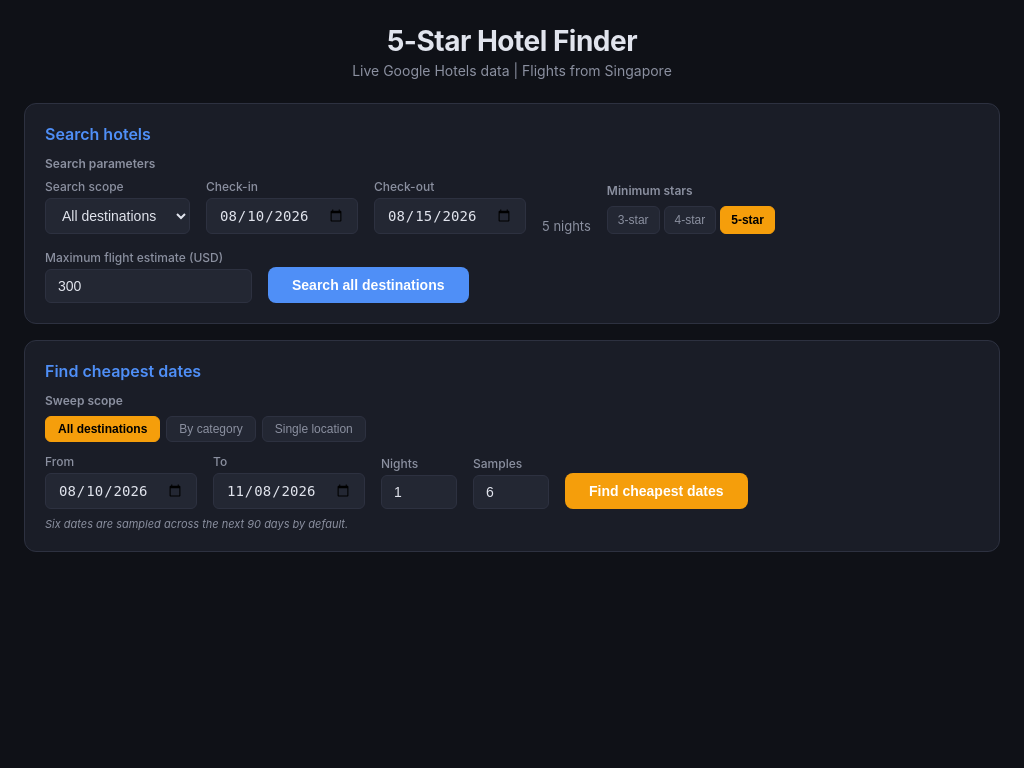
latest search and comparison ownership › clears the previous result as soon as a superseding search starts and keeps it clear on failure
expect the button "Find cheapest dates" is enabled: met, box left=565, top=473, right=748, bottom=509
Type "2026-09-10" into the date field labelled "Check-in" at (282, 216), box left=206, top=198, right=358, bottom=234
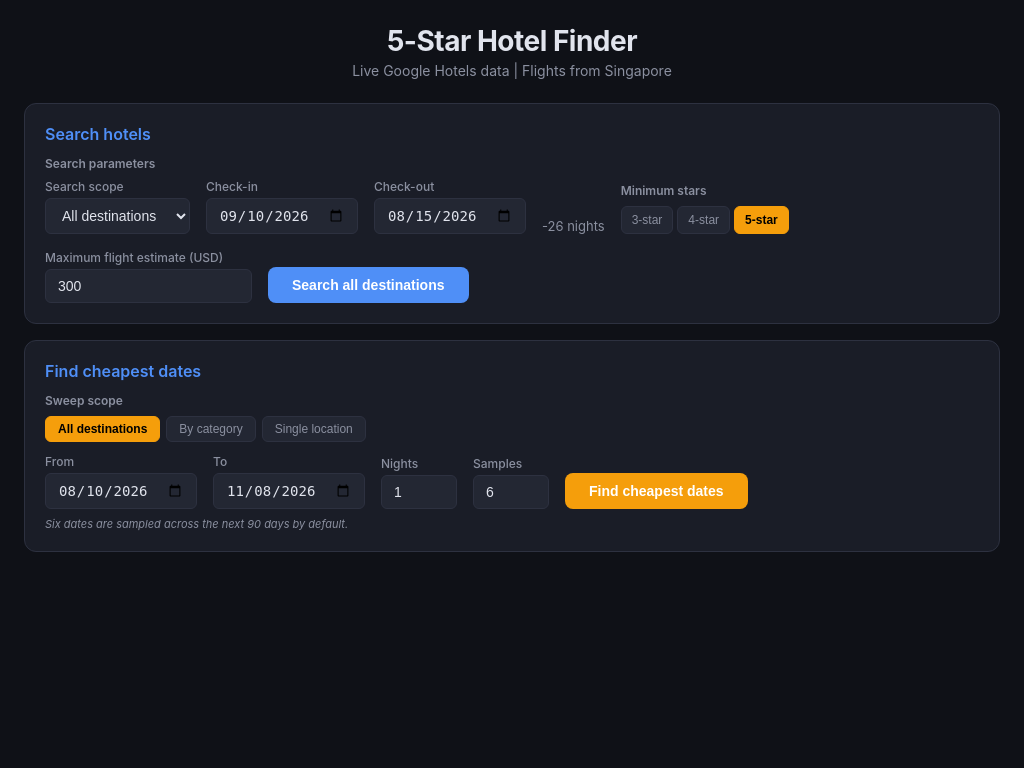
Type "2026-09-15" into the date field labelled "Check-out" at (450, 216), box left=374, top=198, right=526, bottom=234
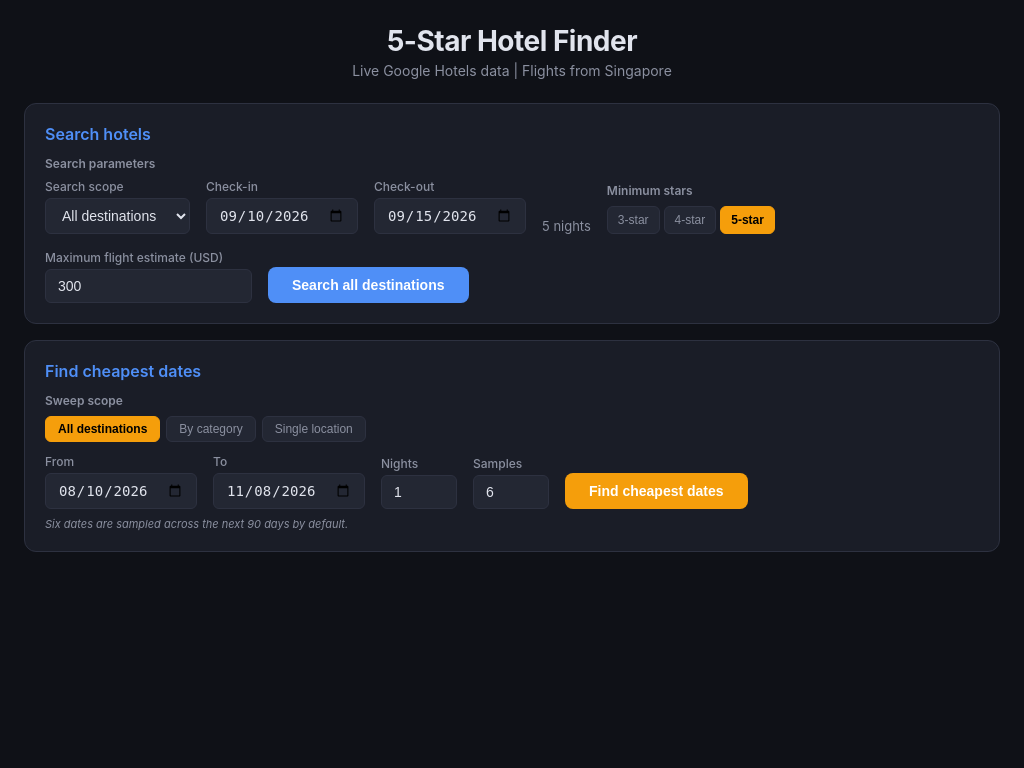
Click the button "Search all destinations" at (368, 285), box left=268, top=267, right=468, bottom=303
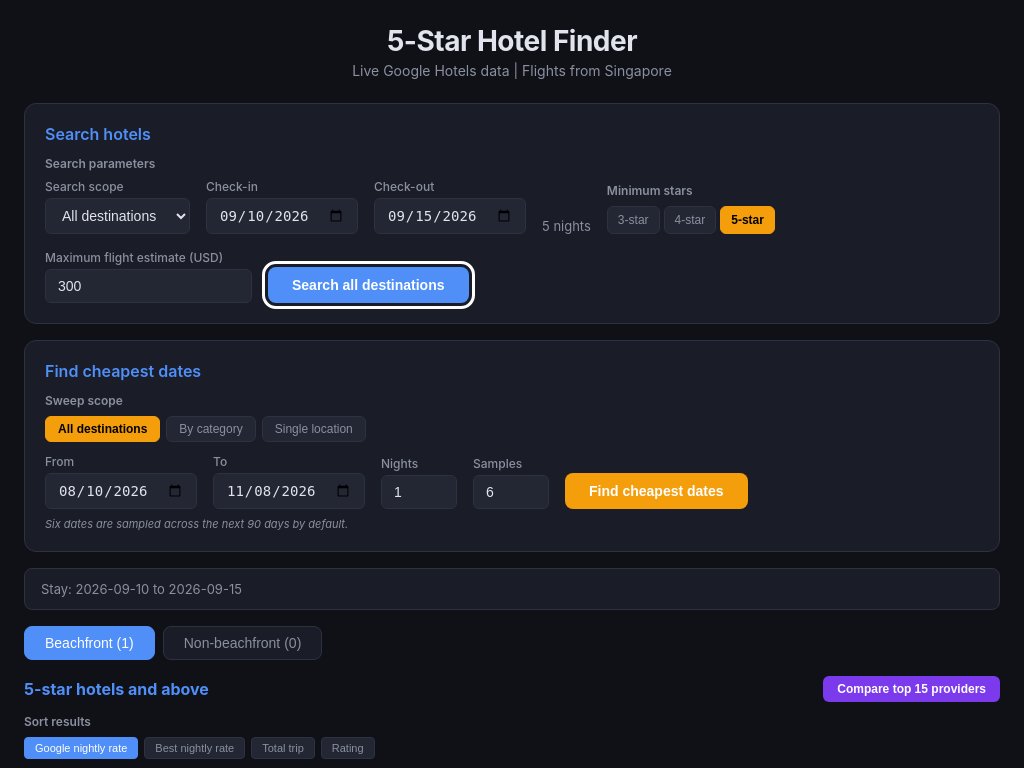
Type "2026-10-20" into the date field labelled "Check-in" at (282, 216), box left=206, top=198, right=358, bottom=234
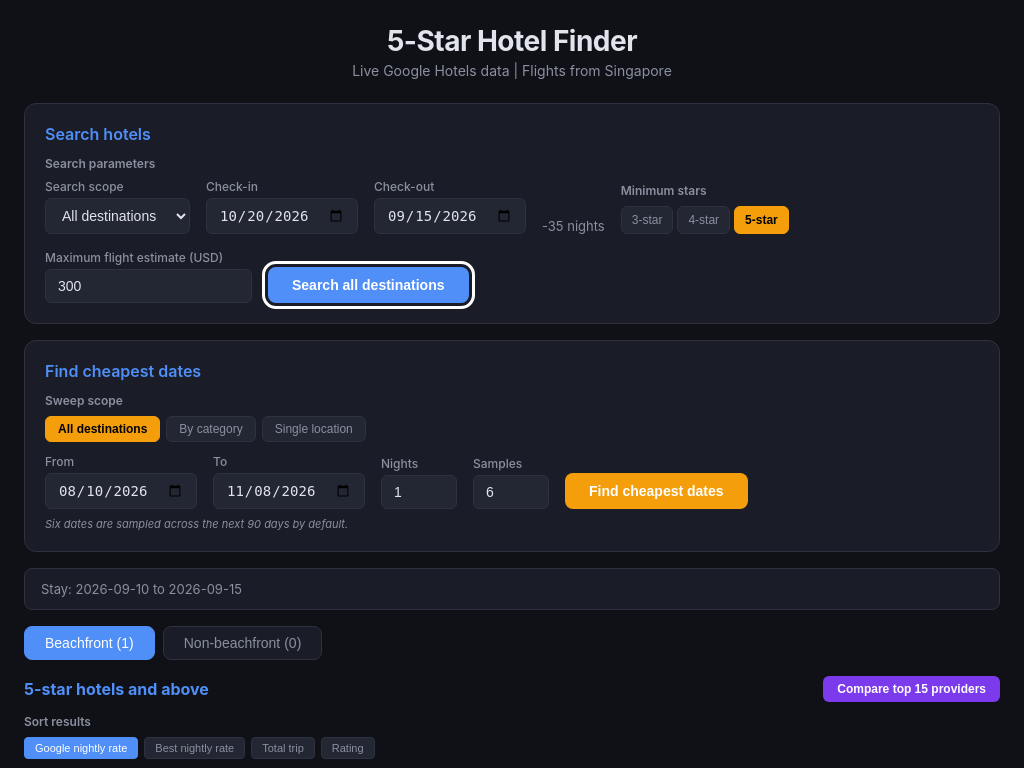
Type "2026-10-25" into the date field labelled "Check-out" at (450, 216), box left=374, top=198, right=526, bottom=234
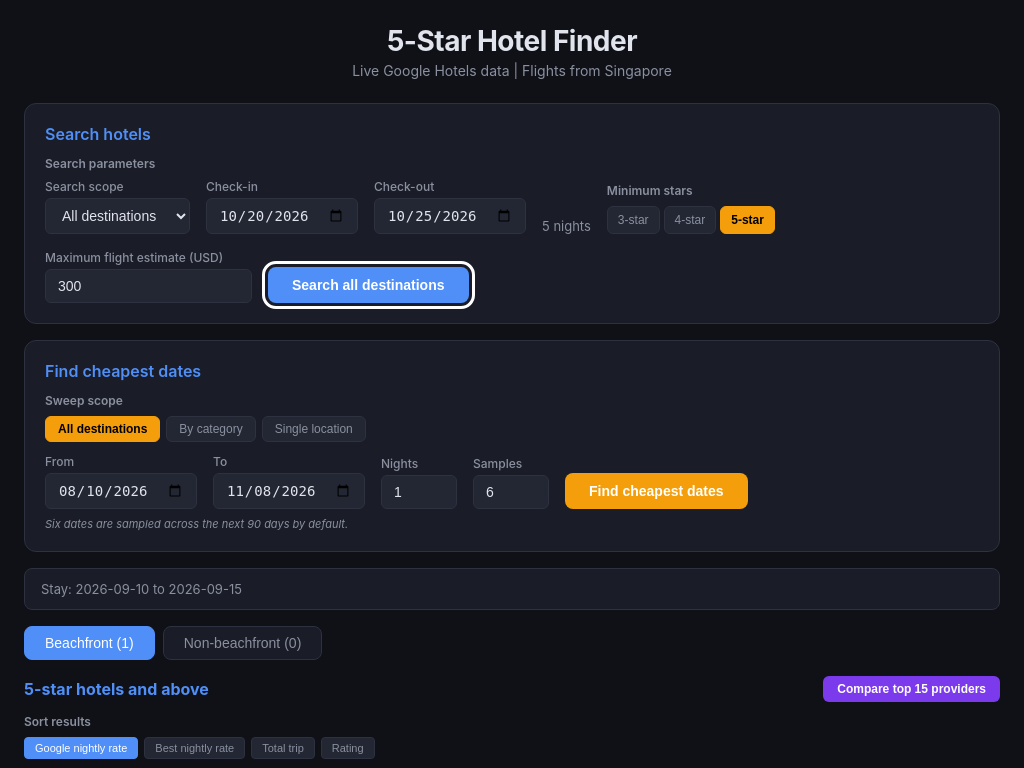
Click the button "Search all destinations" at (368, 285), box left=268, top=267, right=468, bottom=303
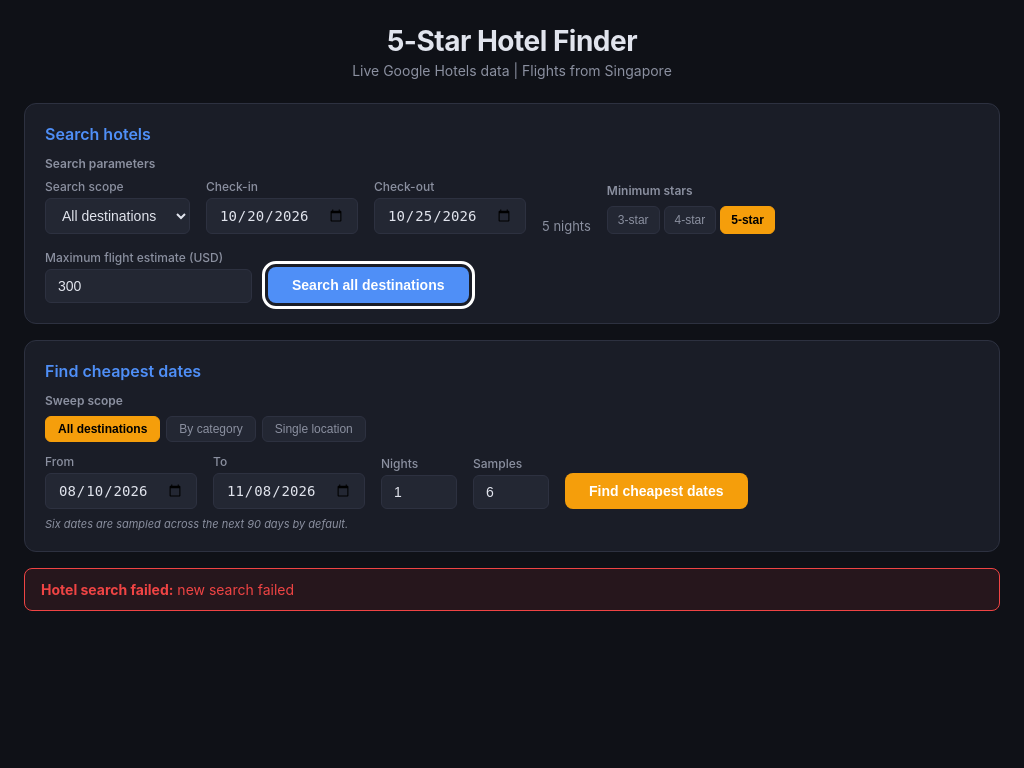
expect the text "Stay:" is gone: met
expect the message reads "Hotel search failed: new search failed": met, box left=24, top=568, right=1000, bottom=611
